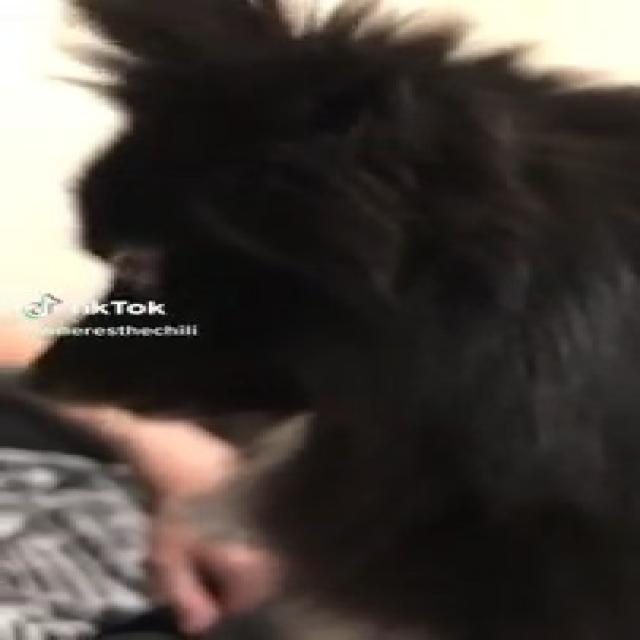dogs: (23, 0, 640, 640)
